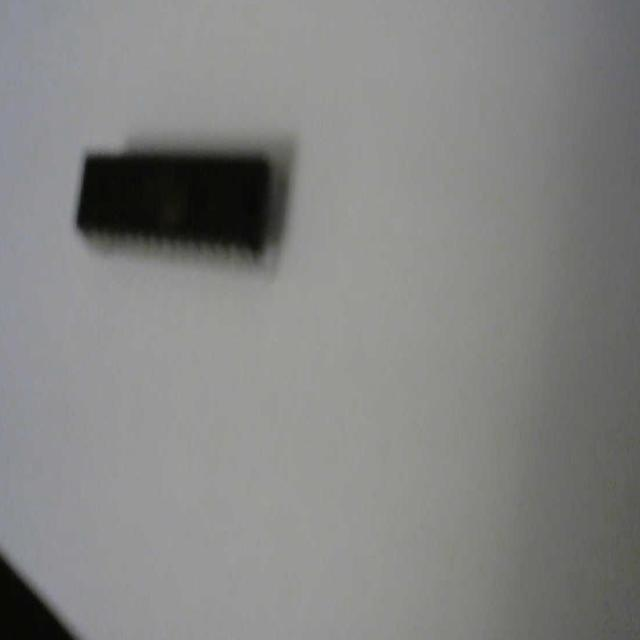atmega: (72, 130, 294, 278)
